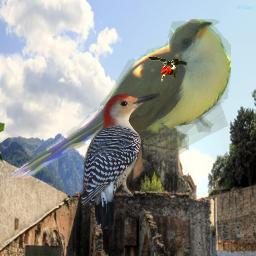Cuckoo: (7, 19, 231, 178)
Woodpecker: (80, 93, 160, 229), (146, 54, 188, 82)
